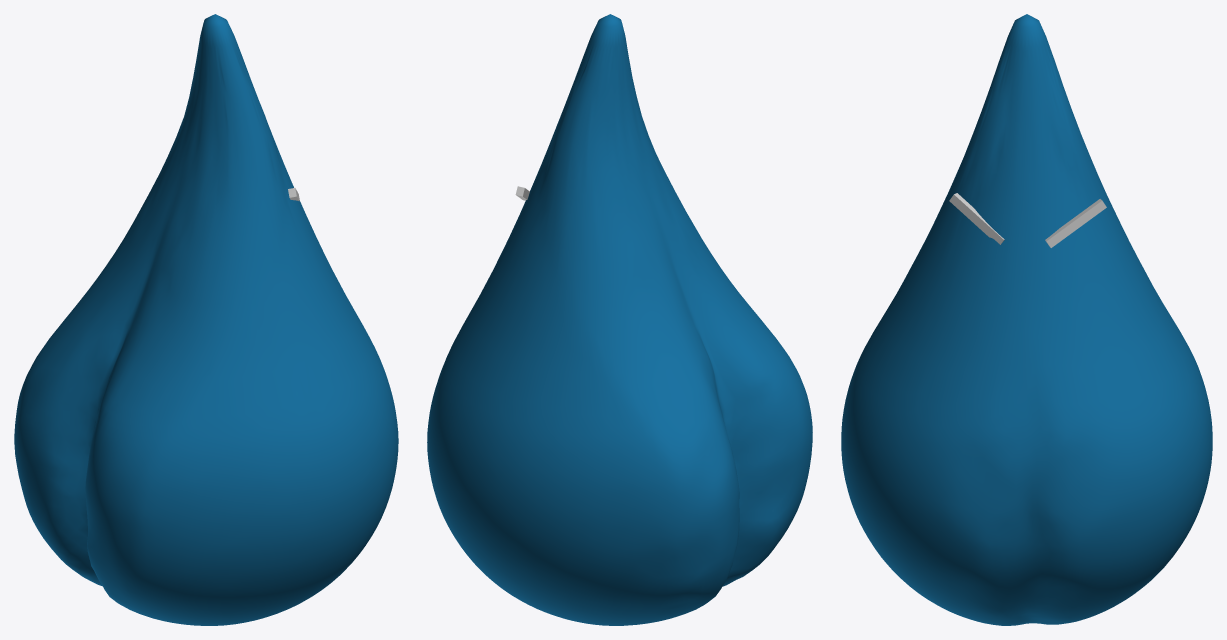
File: water_blob_RD.dae
3 views of the same model, side by side, from view 1: azimuth 30°, elevation 25°; view 2: azimuth 150°, elevation 25°; view 3: azimuth 270°, elevation 25° (orthographic).
Parts seen in each view (by area): view 1: Sphere.001; view 2: Sphere.001; view 3: Sphere.001, eyebrow_left.001, eyebrow_left.
Part boxes in pixels (bbox=[...]): Sphere.001: bbox=[14, 14, 398, 625]; Sphere.001: bbox=[427, 14, 812, 625]; Sphere.001: bbox=[841, 14, 1212, 625]; eyebrow_left.001: bbox=[1045, 199, 1106, 247]; eyebrow_left: bbox=[949, 193, 1004, 244].
Size of the model in its own units: 1.89 by 1.97 by 3.5.
